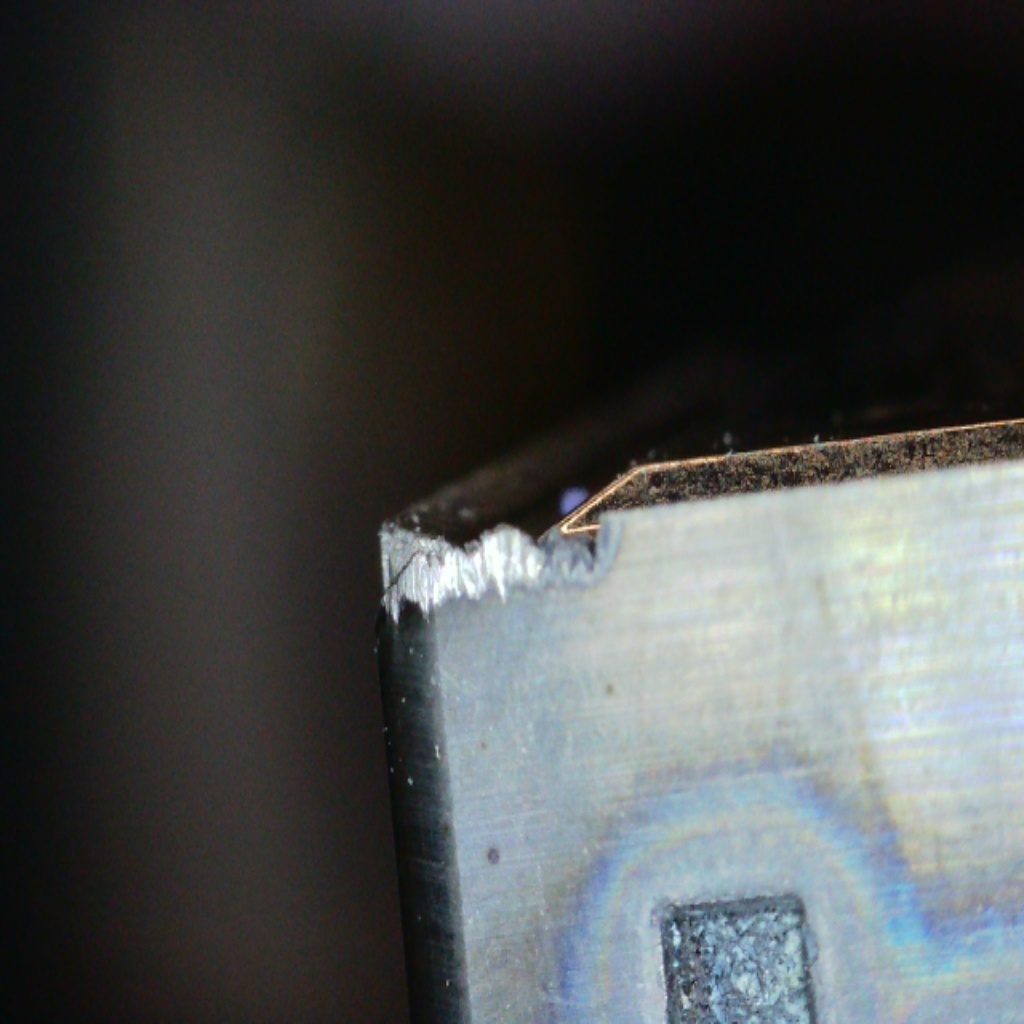flank_wear: (375, 517, 531, 641)
